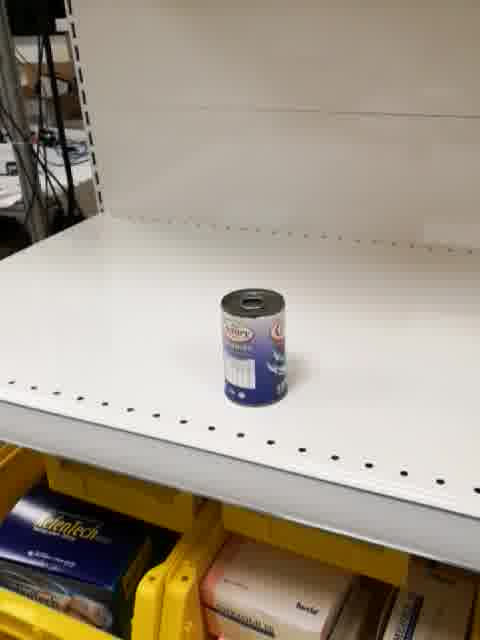sardine: (219, 287, 289, 409)
